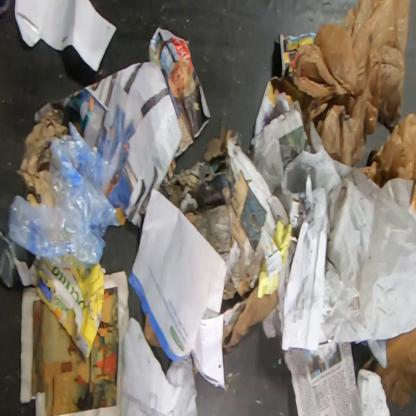cardboard: (158, 122, 290, 301), (12, 255, 106, 362), (222, 284, 279, 349), (143, 314, 161, 348)
soft_plastic: (292, 0, 411, 168), (7, 121, 121, 266), (358, 112, 415, 216)
